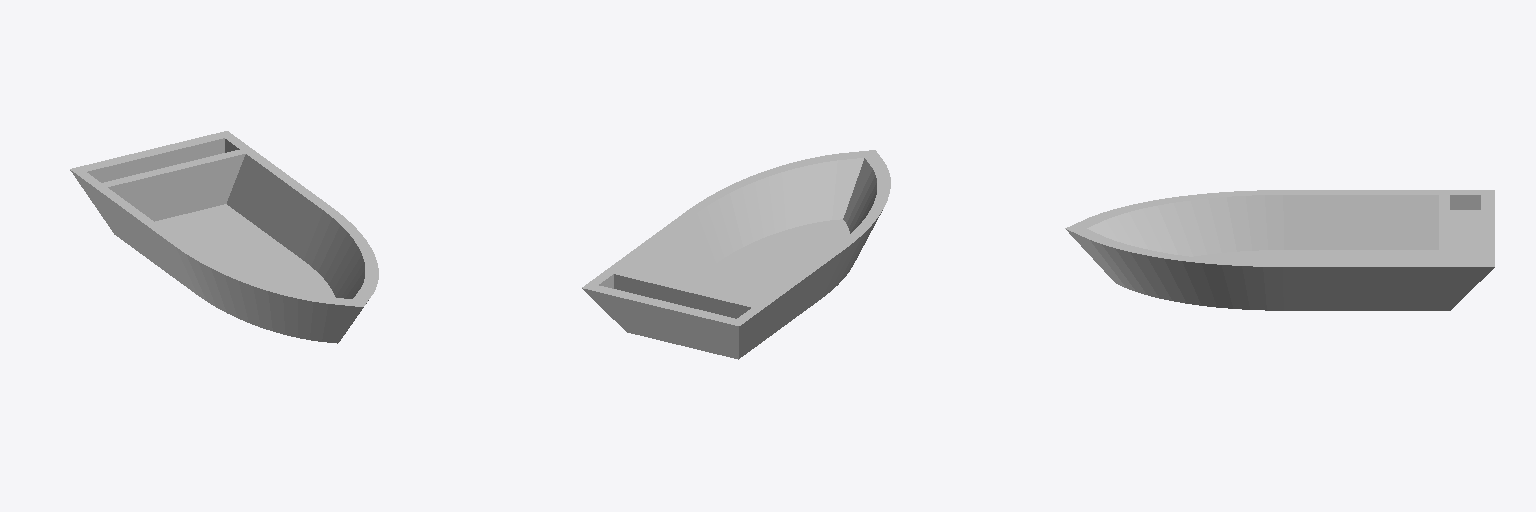
Rendered from boat.obj.
3 views of the same model, side by side, from view 1: azimuth 30°, elevation 25°; view 2: azimuth 150°, elevation 25°; view 3: azimuth 270°, elevation 25° (orthographic).
Visible parts, largest first — view 1: Barco; view 2: Barco; view 3: Barco.
Part boxes in pixels (bbox=[...]): Barco: bbox=[70, 131, 378, 343]; Barco: bbox=[582, 150, 890, 359]; Barco: bbox=[1065, 190, 1494, 310].
Size of the model in its own units: 2.68 by 0.89 by 6.33.